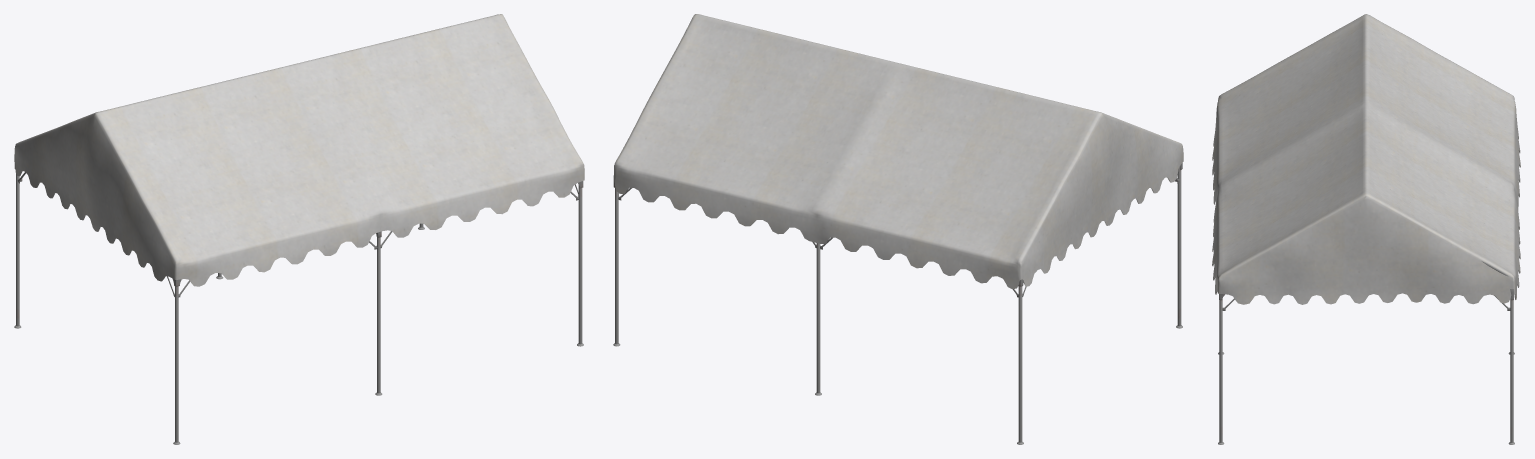
The model's file is Canopy.fbx.
The picture shows the model from 3 angles, left to right: view 1: azimuth 30°, elevation 25°; view 2: azimuth 150°, elevation 25°; view 3: azimuth 270°, elevation 25°; orthographic projection. The views are drawn at different scales.
Visible parts, largest first — view 1: Canopy; view 2: Canopy; view 3: Canopy.
Part boxes in pixels (box(x1,y1,x2,y2)): Canopy: box(14, 14, 584, 444); Canopy: box(613, 14, 1183, 444); Canopy: box(1212, 14, 1520, 444).
Bounding box in the file's own units: 8.02 × 4.93 × 5.53.
